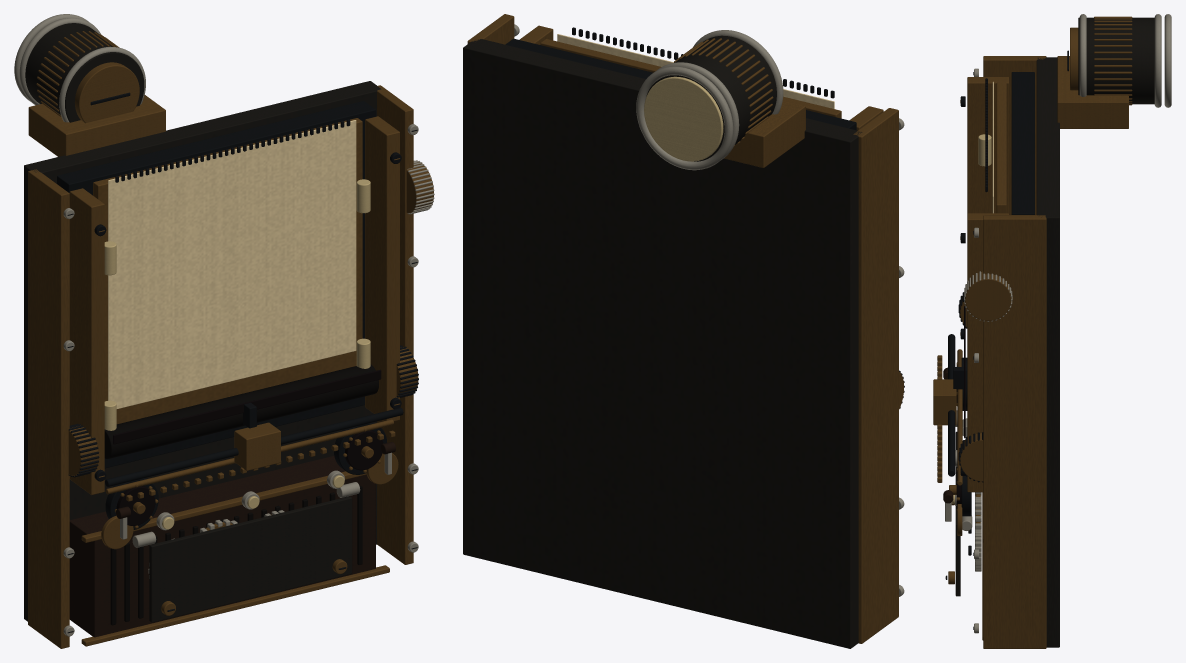
The model's file is service_teletype.glb.
The picture shows the model from 3 angles, left to right: view 1: azimuth 30°, elevation 25°; view 2: azimuth 150°, elevation 25°; view 3: azimuth 270°, elevation 25°; orthographic projection. The views are drawn at different scales.
Parts seen in each view (by area): view 1: PrinterFixedHardware, Paper, Hinged inspection cover, Platen, Carriage, Ribbon winding.001, Feed thumbwheel, Ribbon winding, Reading rack handwheel, TakeupSpool; view 2: PrinterFixedHardware, TorchLens, Paper; view 3: PrinterFixedHardware, Reading rack handwheel, Carriage, Feed thumbwheel.001, Hinged inspection cover, TakeupSpool.
Boxes of the visible parts, <box> form: PrinterFixedHardware: <box>14,14,418,648</box>; Paper: <box>108,120,356,408</box>; Hinged inspection cover: <box>149,496,352,622</box>; Platen: <box>104,364,378,458</box>; Carriage: <box>234,422,280,470</box>; Ribbon winding.001: <box>345,430,383,470</box>; Feed thumbwheel: <box>68,425,98,476</box>; Ribbon winding: <box>116,486,155,525</box>; Reading rack handwheel: <box>406,162,433,213</box>; TakeupSpool: <box>334,422,386,474</box>; PrinterFixedHardware: <box>463,14,904,648</box>; TorchLens: <box>644,76,723,161</box>; Paper: <box>557,34,834,108</box>; PrinterFixedHardware: <box>937,14,1171,648</box>; Reading rack handwheel: <box>965,271,1011,320</box>; Carriage: <box>933,379,956,425</box>; Feed thumbwheel.001: <box>960,433,983,481</box>; Hinged inspection cover: <box>955,431,960,596</box>; TakeupSpool: <box>961,476,971,516</box>.
Size of the model in its own units: 0.239 by 0.3407 by 0.1431.
9 materials, 9 textured.
